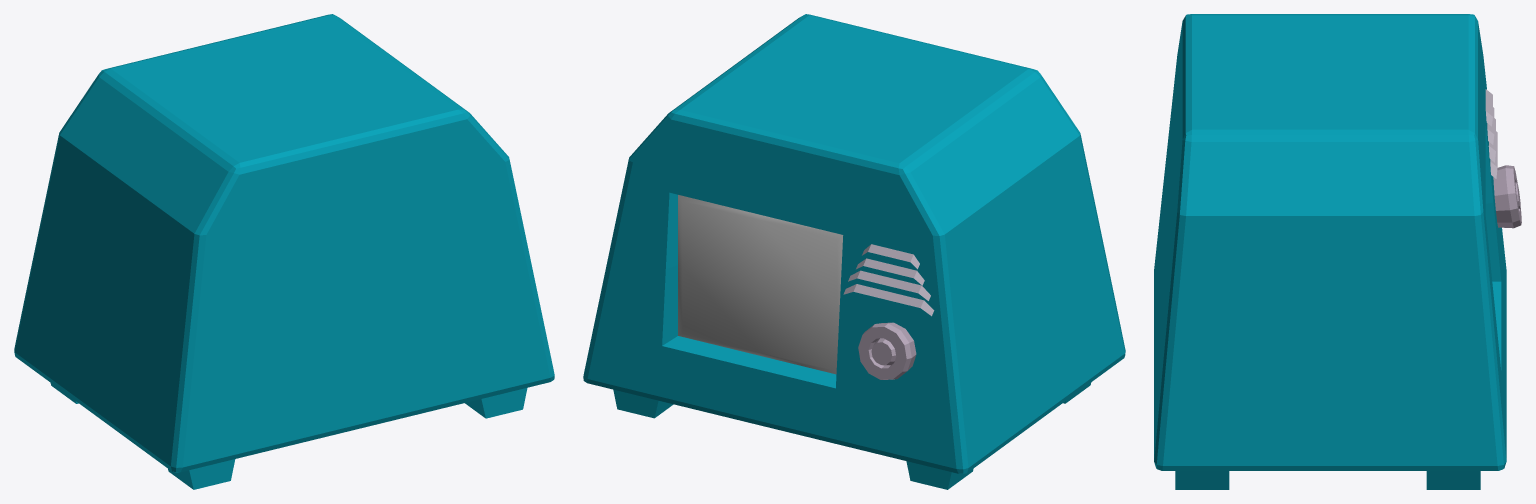
The picture shows the model from 3 angles, left to right: view 1: azimuth 30°, elevation 25°; view 2: azimuth 150°, elevation 25°; view 3: azimuth 270°, elevation 25°; orthographic projection. The views are drawn at different scales.
Parts seen in each view (by area): view 1: Cube; view 2: Cube; view 3: Cube.
Part boxes in pixels (x1,y1,x2,y2): Cube: [14, 14, 554, 489]; Cube: [583, 14, 1125, 489]; Cube: [1154, 14, 1521, 489].
Size of the model in its own units: 3.23 by 2.48 by 2.5.
